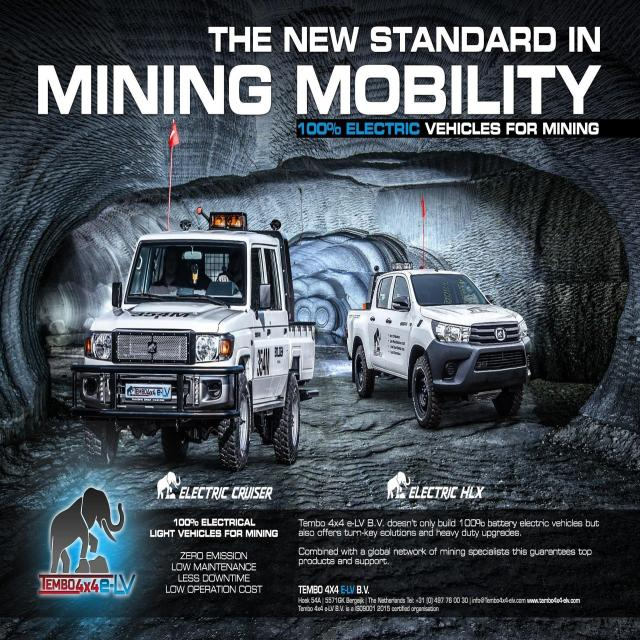light_vehicle: (94, 195, 318, 477), (337, 247, 540, 446)
